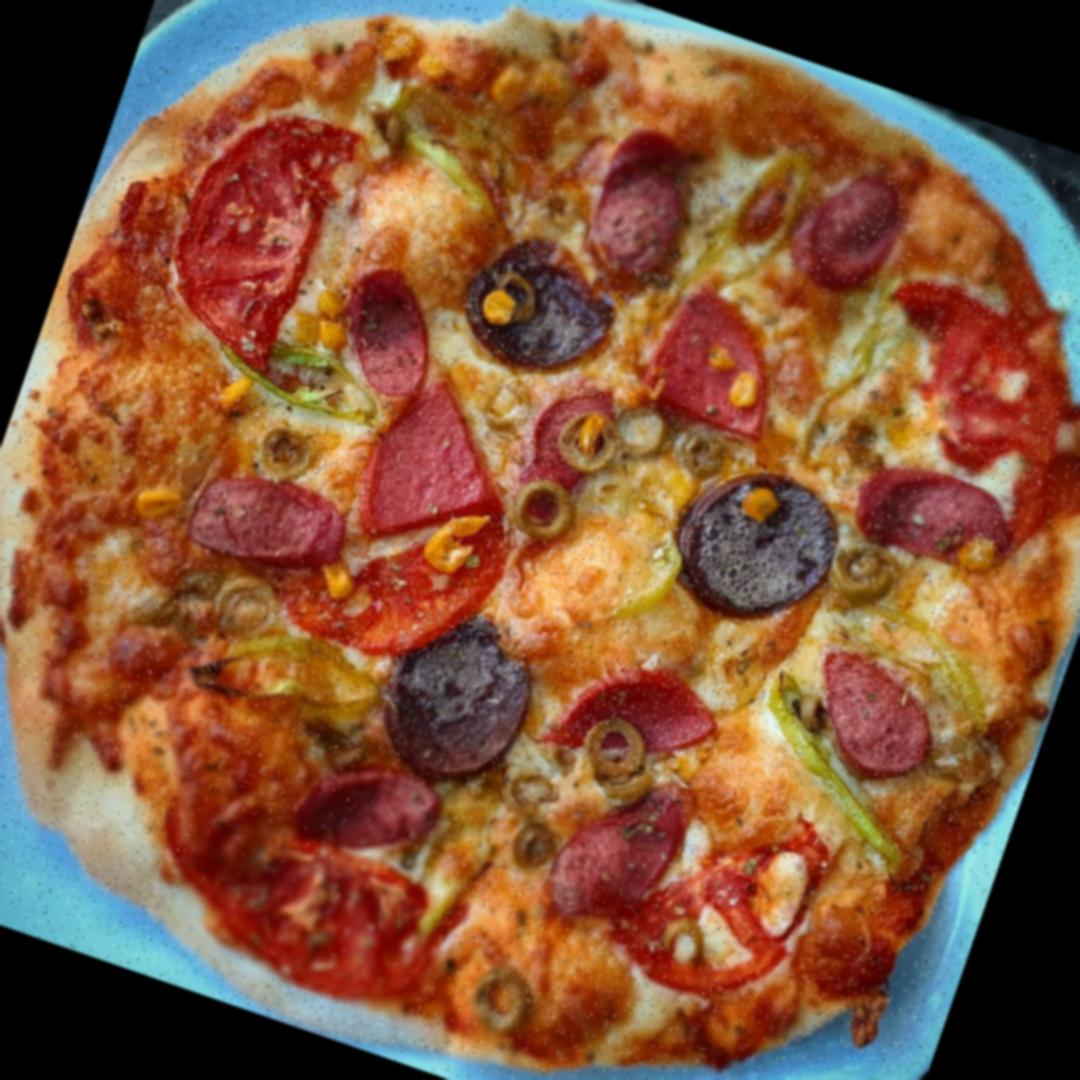Corn: (416, 507, 485, 582), (487, 60, 533, 110), (212, 370, 256, 422), (316, 558, 359, 609), (372, 24, 418, 70), (134, 480, 179, 526), (954, 535, 998, 577), (479, 287, 519, 330), (743, 483, 783, 524), (414, 49, 455, 84), (574, 417, 607, 458), (729, 371, 762, 412), (706, 345, 740, 374)
Ham: (350, 364, 522, 570), (540, 640, 733, 793), (450, 224, 628, 382), (540, 768, 696, 946), (633, 287, 802, 446), (847, 452, 1024, 585), (289, 746, 456, 880), (795, 648, 949, 790), (581, 123, 706, 282), (186, 465, 344, 583), (326, 268, 452, 406), (786, 158, 909, 294), (520, 375, 622, 490)
Olives: (478, 763, 576, 879), (575, 707, 656, 790), (821, 536, 905, 615), (502, 469, 580, 545), (551, 406, 626, 482), (467, 966, 540, 1040), (254, 424, 322, 488), (610, 398, 672, 461)
Pizza: (0, 0, 1080, 1080)
Tomatoes: (831, 271, 1080, 550), (160, 805, 452, 1025), (260, 454, 512, 688), (594, 777, 830, 1024), (148, 92, 356, 371)
